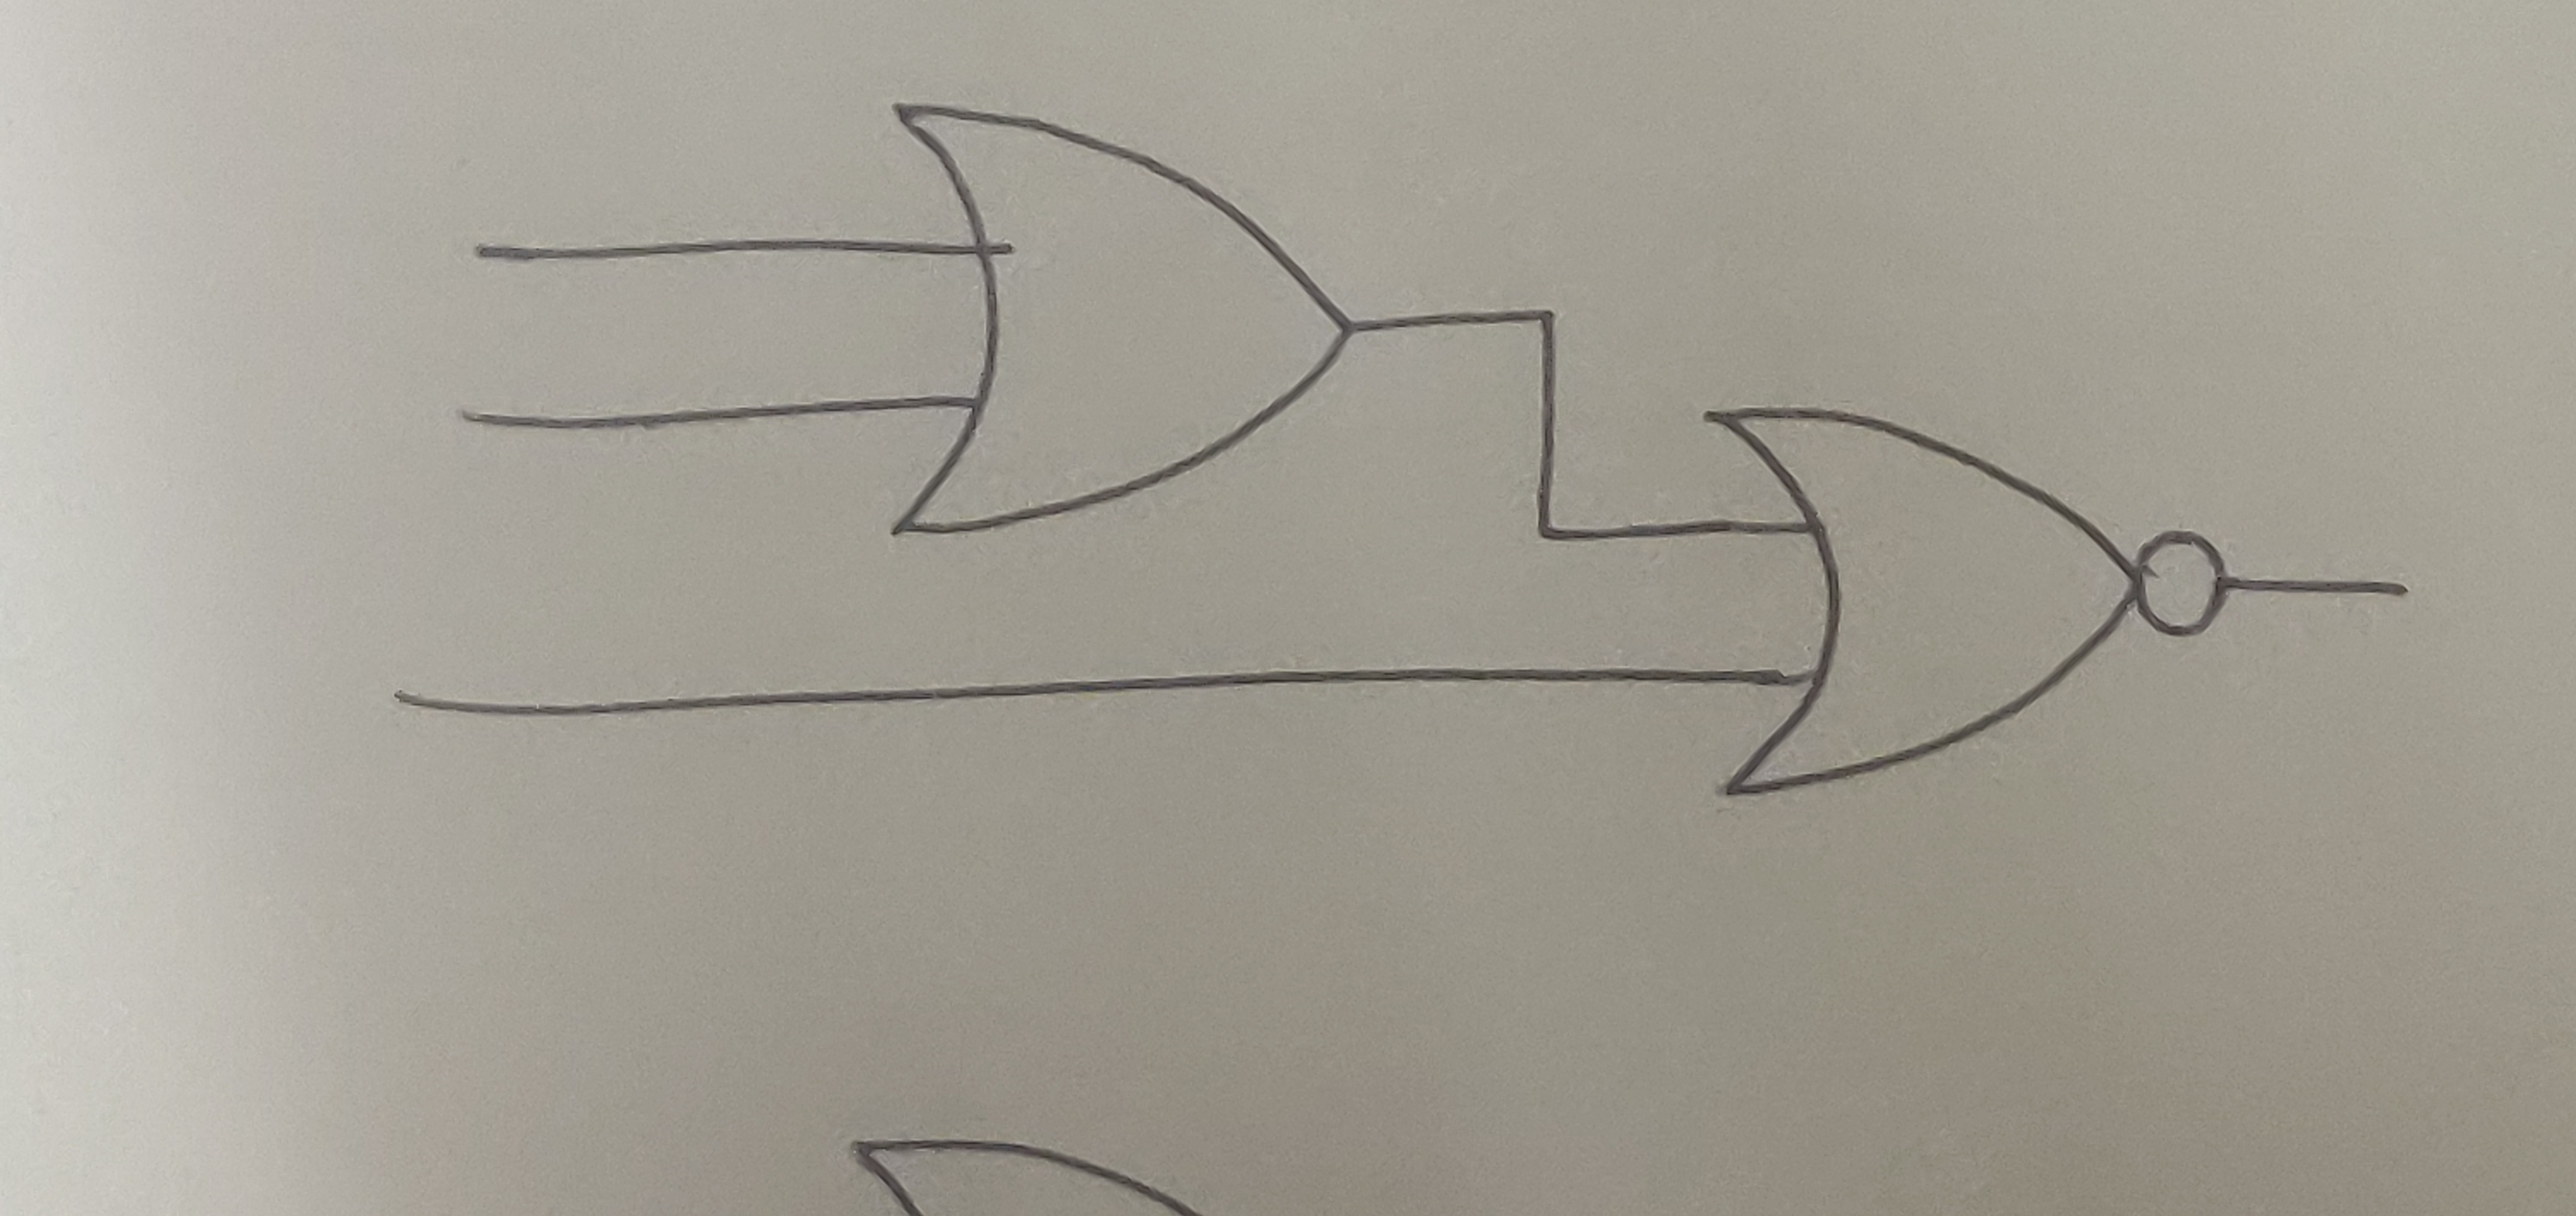not: (2132, 523, 2234, 644)
or: (884, 95, 1354, 539), (1699, 401, 2149, 802)
